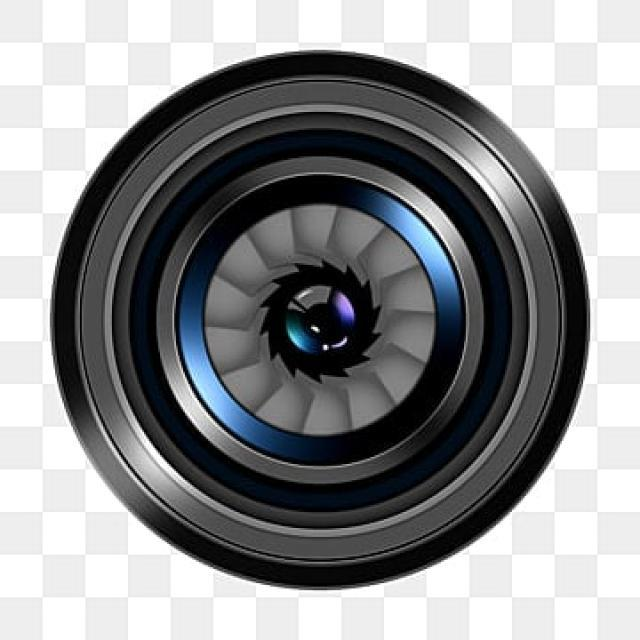hidden camera: (100, 108, 549, 542)
